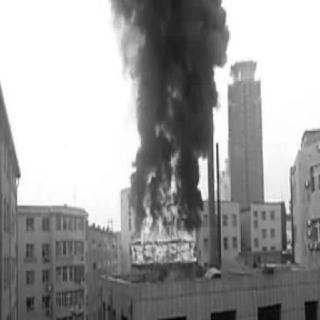Smoke: (112, 1, 218, 184)
